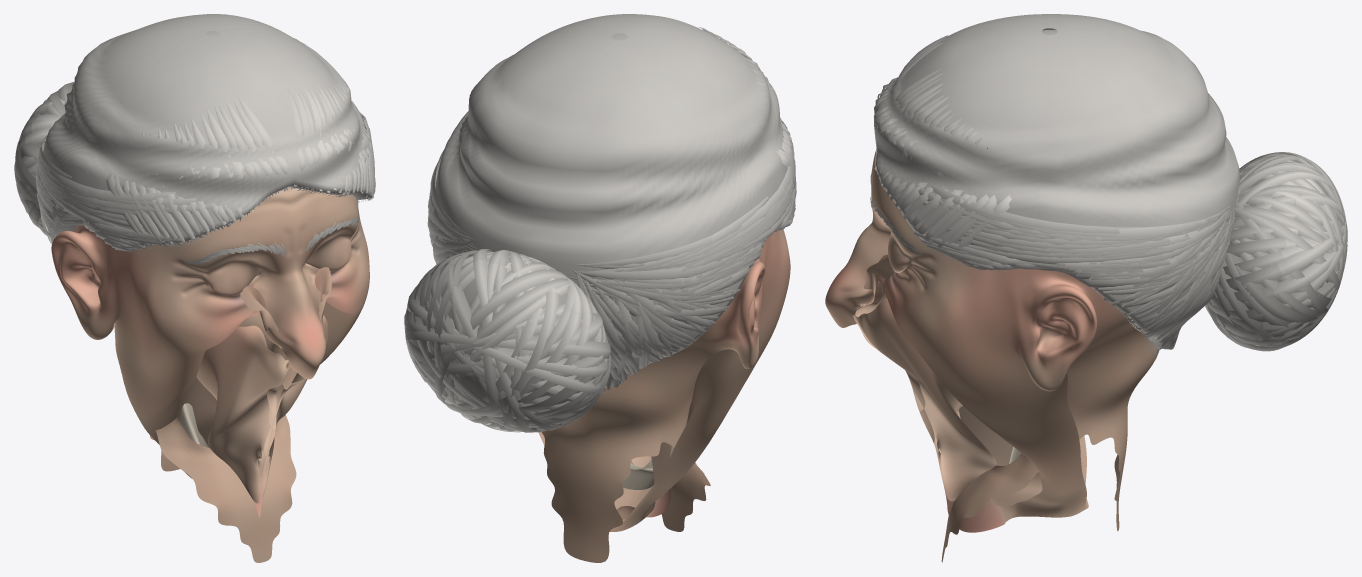
Rendered from ida_bl.glb.
3 renders of one model, left to right at view 1: azimuth 30°, elevation 25°; view 2: azimuth 150°, elevation 25°; view 3: azimuth 270°, elevation 25°, orthographic. The views are drawn at different scales.
Visible parts, largest first — view 1: ida_head, ida_hair_shell, ida_hair_cards, ida_bun, ida_brows, ida_hair_fine; view 2: ida_hair_shell, ida_head, ida_bun, ida_hair_cards; view 3: ida_head, ida_hair_shell, ida_hair_cards, ida_bun.
Boxes of the visible parts, x1=… form: ida_head: x1=51, y1=31, x2=369, y2=562; ida_hair_shell: x1=43, y1=14, x2=371, y2=249; ida_hair_cards: x1=36, y1=82, x2=375, y2=252; ida_bun: x1=14, y1=81, x2=74, y2=235; ida_brows: x1=184, y1=218, x2=358, y2=263; ida_hair_fine: x1=54, y1=185, x2=368, y2=249; ida_hair_shell: x1=435, y1=14, x2=787, y2=387; ida_head: x1=538, y1=33, x2=790, y2=562; ida_bun: x1=404, y1=249, x2=610, y2=432; ida_hair_cards: x1=427, y1=27, x2=796, y2=391; ida_head: x1=825, y1=30, x2=1159, y2=562; ida_hair_shell: x1=874, y1=14, x2=1239, y2=349; ida_hair_cards: x1=874, y1=35, x2=1234, y2=349; ida_bun: x1=1205, y1=152, x2=1347, y2=351.
Bounding box in the file's own units: 0.8879 × 1.45 × 1.29.
